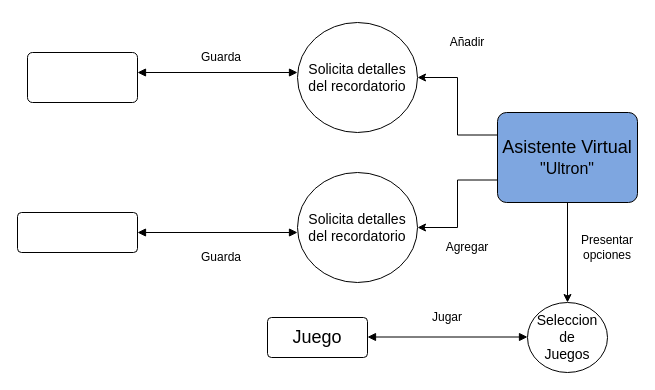
Some shapes in this 655 by 390 pixel diagram are drawn without their labels. Each missing label, with the box of its shape:
Alarma: (26, 52, 138, 102)
Recordatorios: (16, 212, 138, 252)
